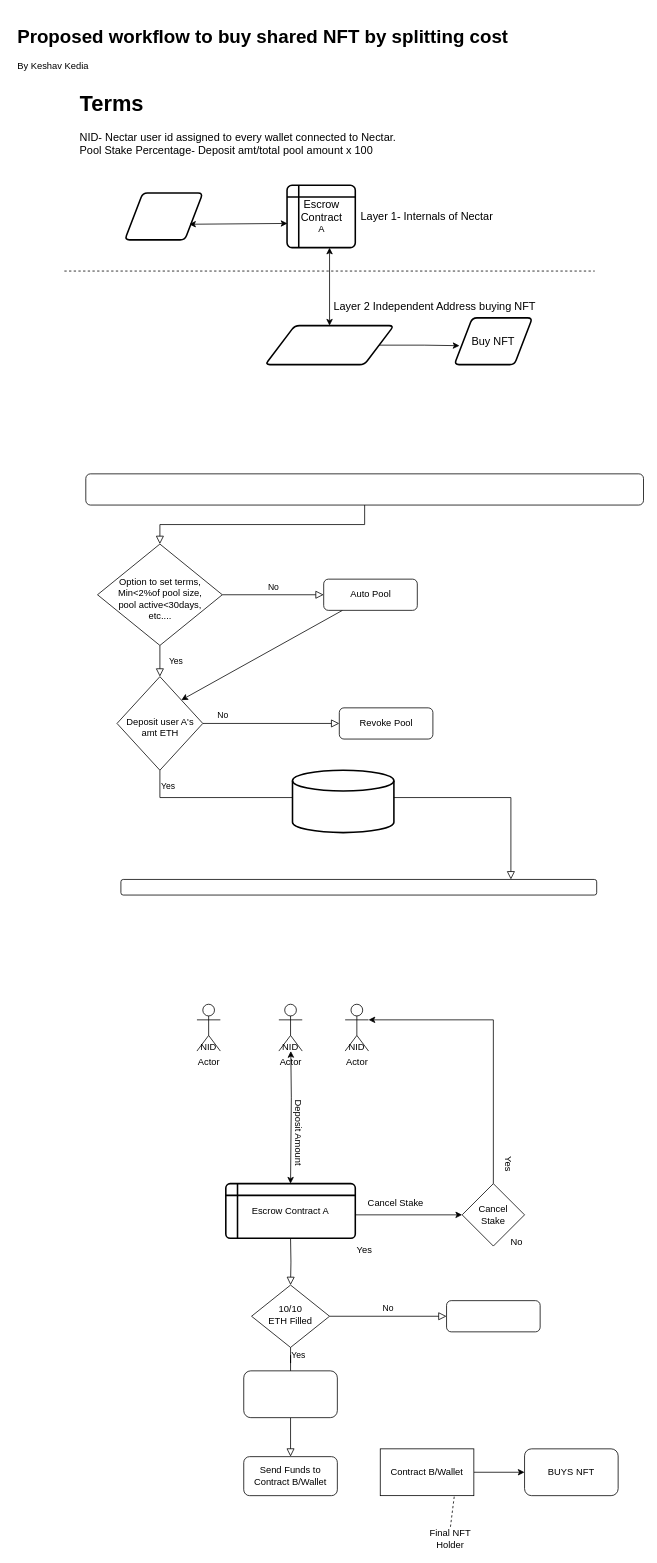
The diagram is 657 pixels wide and 1563 high, and some of its shapes have lost their labels. Here are the shapes that lost their labels. From the top down, the centre of each, then its label:
At point (163, 216): "Pool".
At point (329, 344): "Smart Contract B/ Wallet".
At point (364, 489): "Start Pool of(10ETH) by user A".
At point (342, 801): "Pool 1 Database".
At point (358, 887): "Escrow Smart Contract A created".
At point (493, 1316): "Continue Running Pool".
At point (290, 1394): "NID is assigned with POOL STAKE %".
